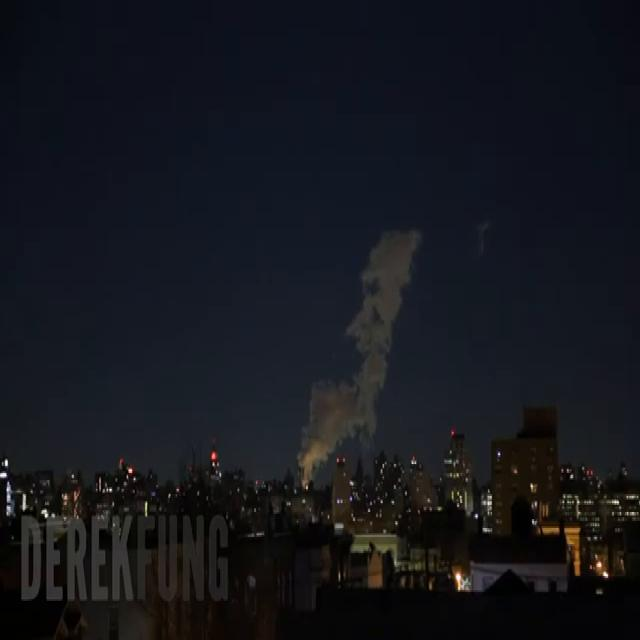smoke: (297, 229, 420, 478)
